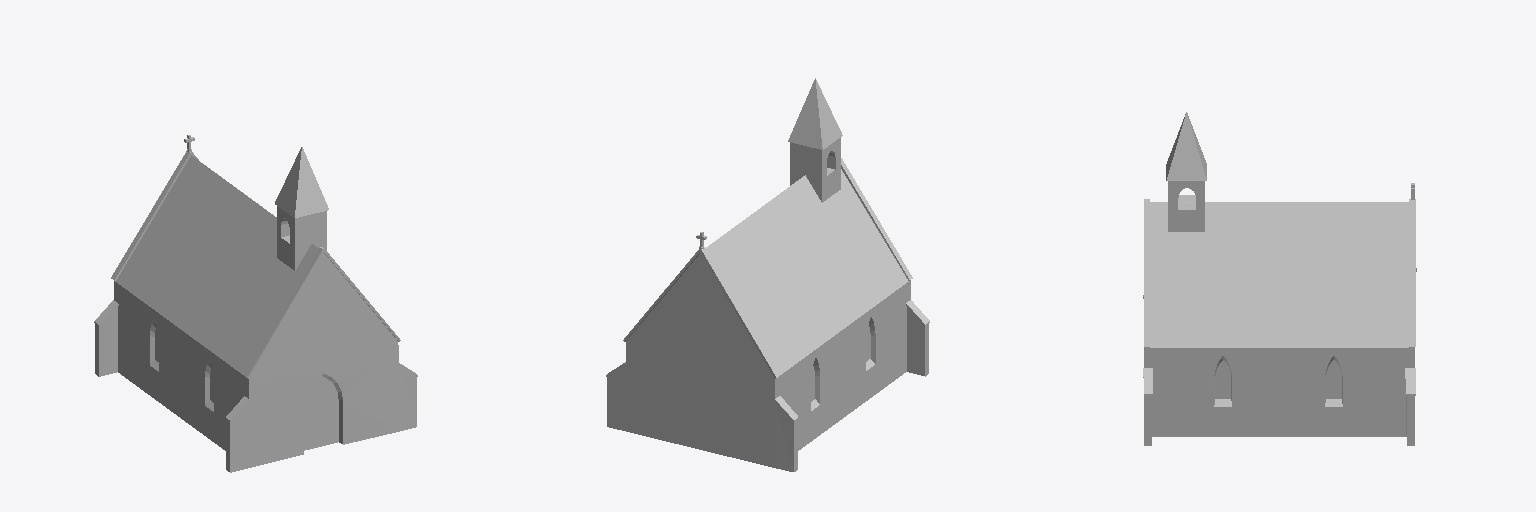
File: Iglesia .obj
The picture shows the model from 3 angles: view 1: azimuth 30°, elevation 25°; view 2: azimuth 150°, elevation 25°; view 3: azimuth 270°, elevation 25°; orthographic projection.
Visible parts, largest first — view 1: polySurface5; view 2: polySurface5; view 3: polySurface5.
Part boxes in pixels (left/top/right/bottom): polySurface5: left=94, top=135, right=417, bottom=472; polySurface5: left=606, top=78, right=929, bottom=471; polySurface5: left=1143, top=112, right=1416, bottom=445.
Size of the model in its own units: 2.9 by 4.26 by 3.65.